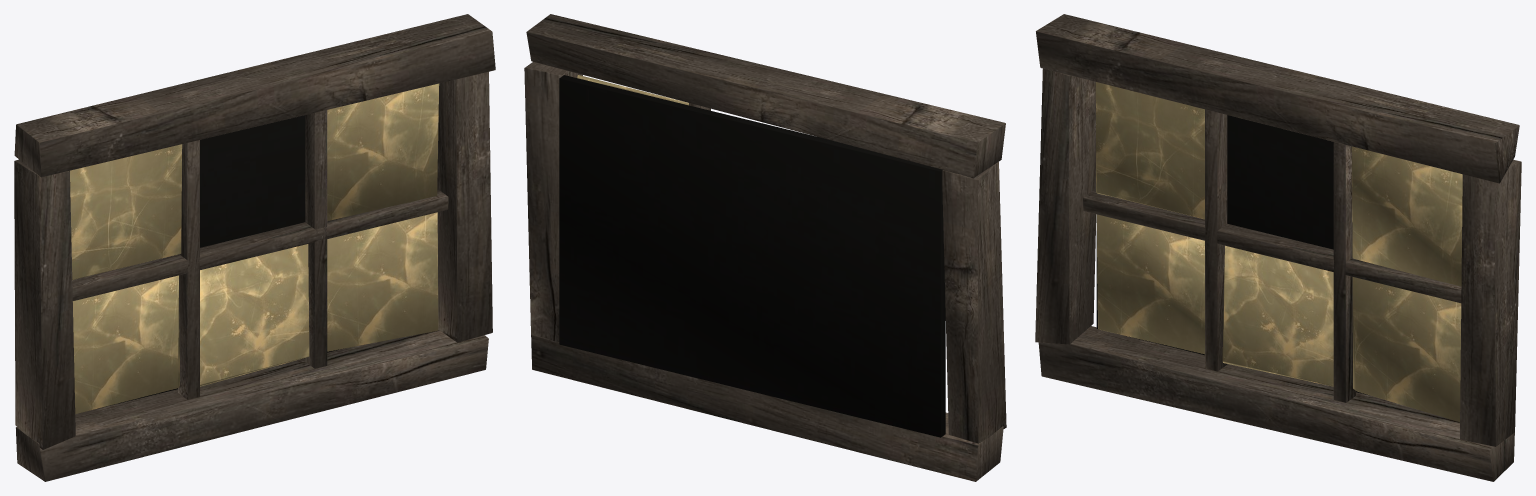
Rendered from th_horn_window.glb.
3 renders of one model, left to right at view 1: azimuth 30°, elevation 25°; view 2: azimuth 150°, elevation 25°; view 3: azimuth 330°, elevation 25°, orthographic.
Visible parts, largest first — view 1: th_horn_window; view 2: th_horn_window; view 3: th_horn_window.
Boxes of the visible parts, <box> form: th_horn_window: <box>14,14,495,481</box>; th_horn_window: <box>524,14,1006,481</box>; th_horn_window: <box>1035,14,1521,481</box>.
Bounding box in the file's own units: 1.08 × 0.7677 × 0.1244.
Materials: 1 (1 with a texture image).
